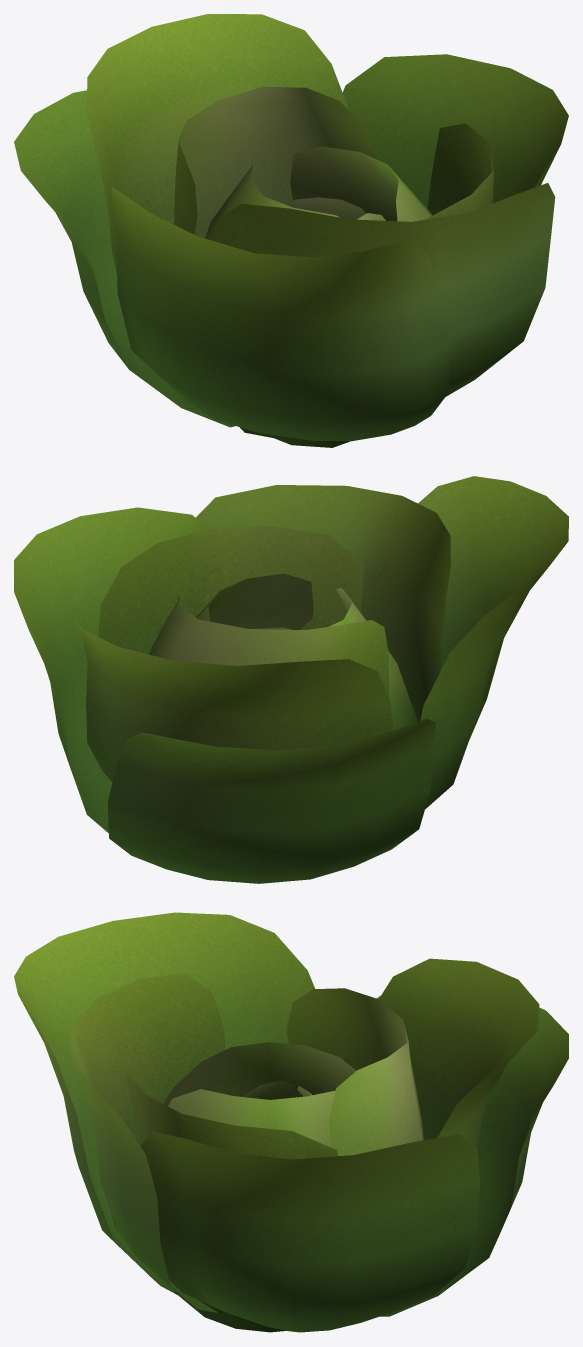
File: Cabbage_Stage_3.fbx
3 views of the same model, one above another, from view 1: azimuth 30°, elevation 25°; view 2: azimuth 150°, elevation 25°; view 3: azimuth 270°, elevation 25° (orthographic). The views are drawn at different scales.
Parts seen in each view (by area): view 1: Plane.005; view 2: Plane.005; view 3: Plane.005.
Part boxes in pixels (bbox=[...]): Plane.005: bbox=[14, 14, 568, 447]; Plane.005: bbox=[14, 476, 568, 883]; Plane.005: bbox=[14, 912, 568, 1332].
Size of the model in its own units: 146 by 90.72 by 160.
Materials: 1 (1 with a texture image).
